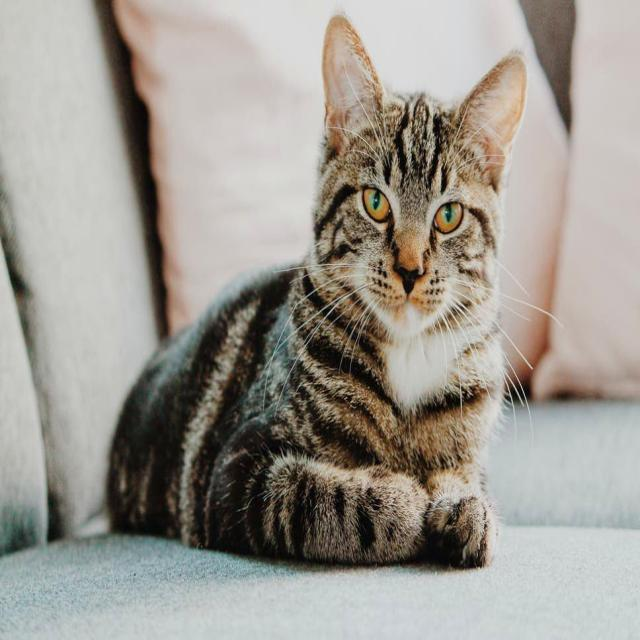cat: (107, 16, 526, 568)
